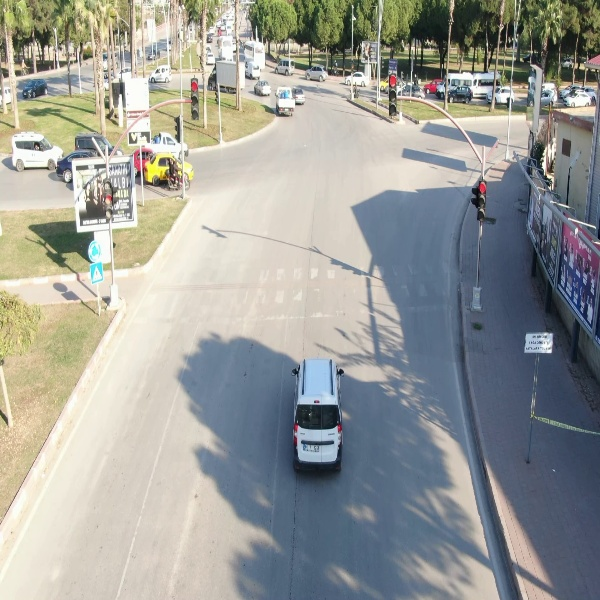car: (289, 356, 348, 476), (7, 130, 65, 172), (445, 84, 474, 109), (486, 85, 516, 109), (20, 77, 51, 99), (150, 62, 174, 87), (562, 89, 591, 109), (303, 62, 330, 82), (345, 70, 371, 89), (272, 57, 295, 77), (252, 80, 274, 99), (291, 86, 308, 105)
